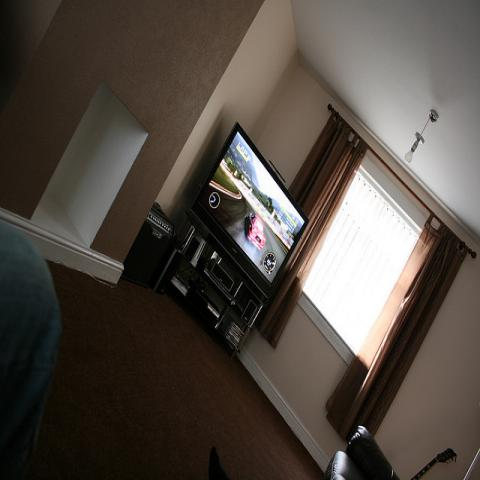car: (246, 214, 265, 250)
